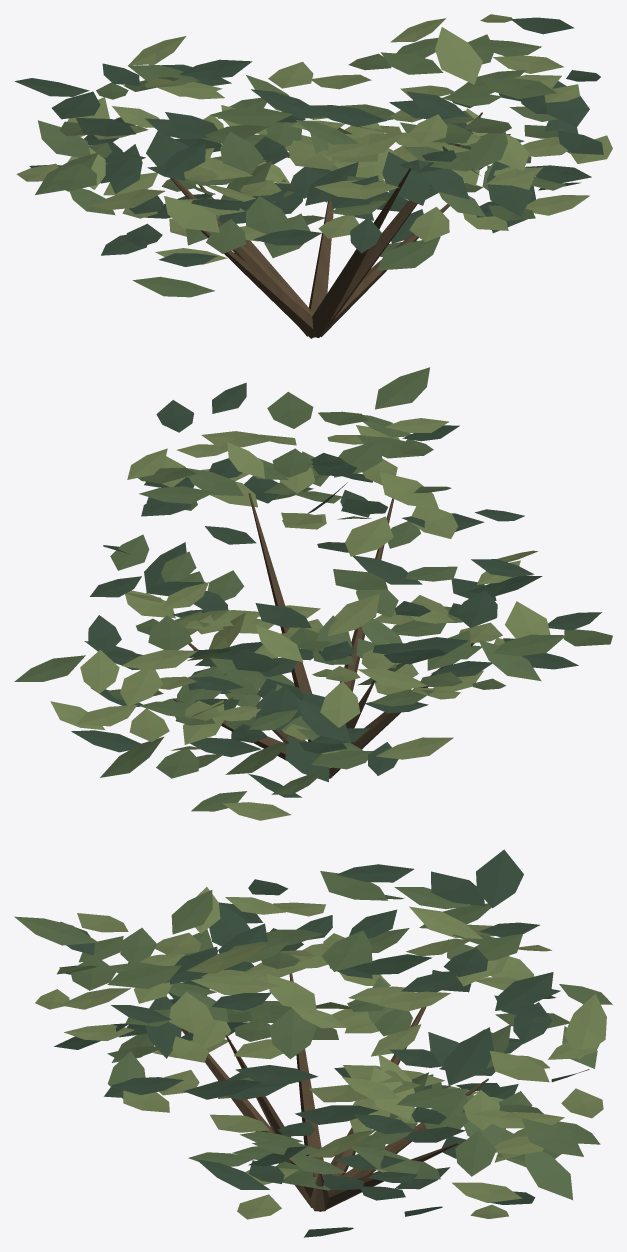
File: NA_Shrub_1.glb
The picture shows the model from 3 angles, top to bottom: view 1: azimuth 30°, elevation 25°; view 2: azimuth 150°, elevation 25°; view 3: azimuth 270°, elevation 25°; orthographic projection. The views are drawn at different scales.
Visible parts, largest first — view 1: NA_Shrub_1; view 2: NA_Shrub_1; view 3: NA_Shrub_1.
Boxes of the visible parts, x1,y1,x2,y2 form: NA_Shrub_1: (14, 14, 612, 338); NA_Shrub_1: (14, 367, 612, 820); NA_Shrub_1: (14, 849, 612, 1237).
Bounding box in the file's own units: 1.29 × 0.761 × 1.3.
4 materials, 1 textured.
